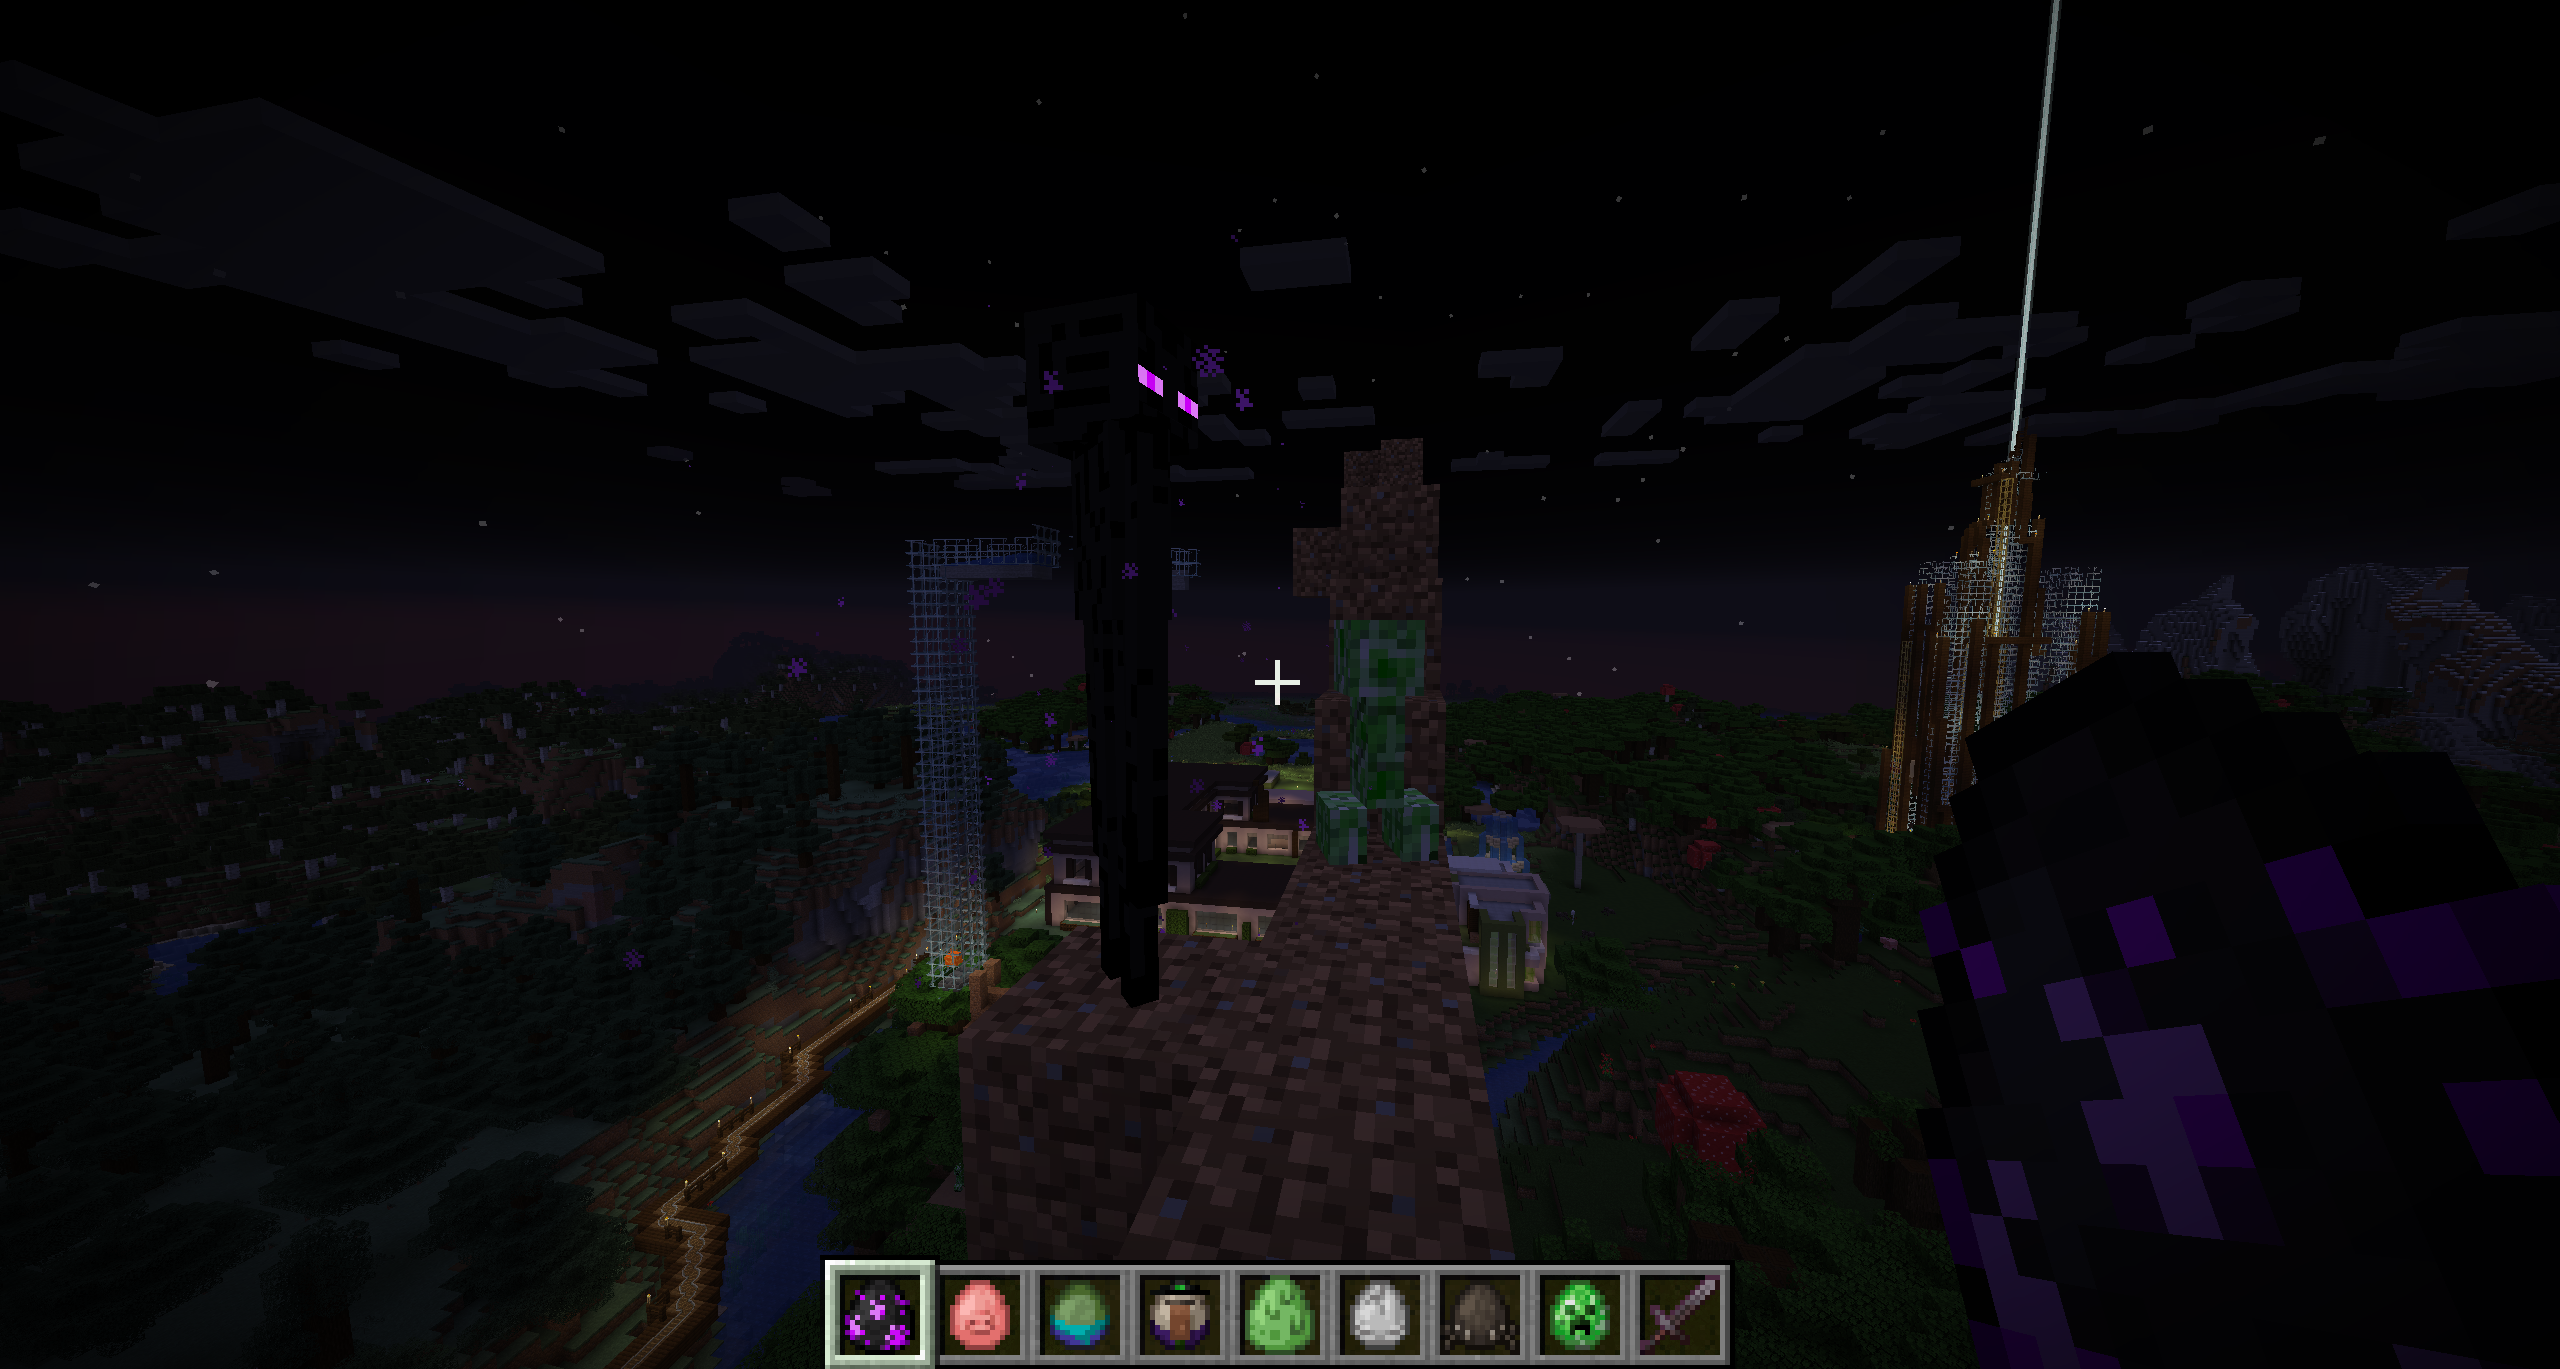creepers: (1314, 613, 1449, 870)
endermens: (1023, 303, 1212, 993)
